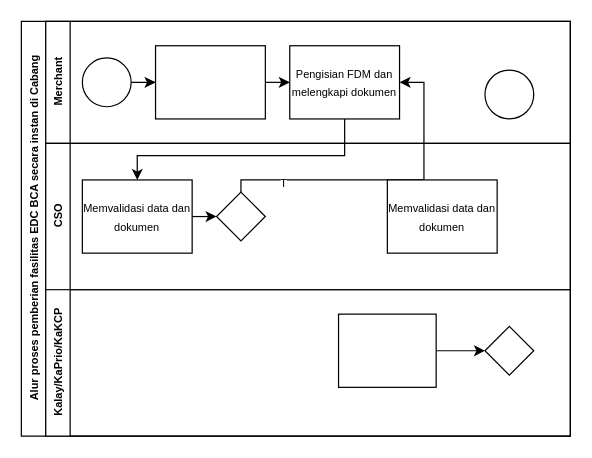
The diagram is 592 pixels wide and 458 high, and some of its shapes have lost their labels. Here are the shapes that lost their labels. From the top down, the centre of each, then its label:
the point at 106,82: mulai
the point at 209,82: Merchant mengajukan fasilitas EDC BCA ke Cabang
the point at 240,216: sesuai?
